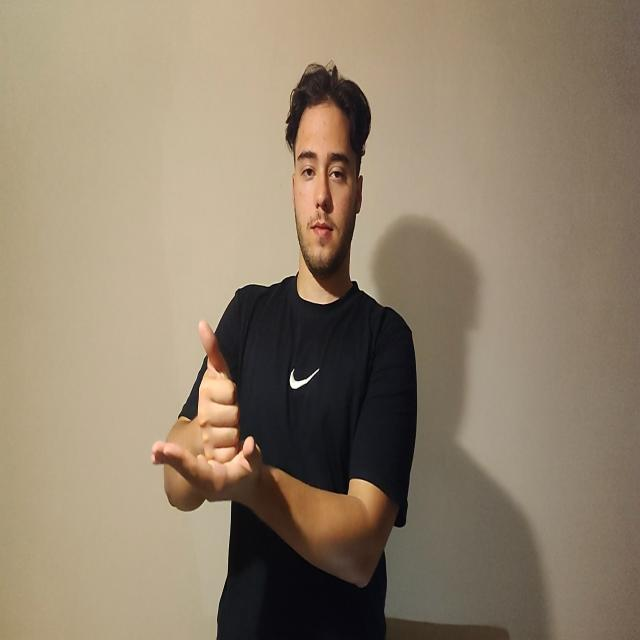help: (153, 318, 260, 506)
